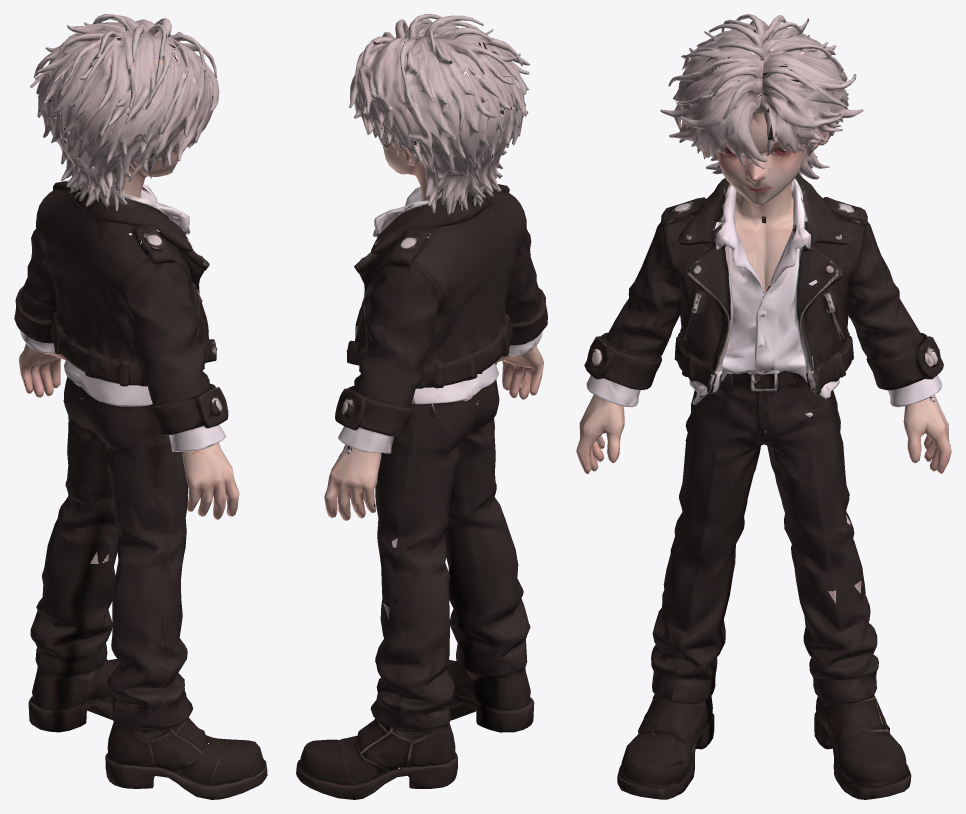
The model's file is far.glb.
3 renders of one model, left to right at view 1: azimuth 30°, elevation 25°; view 2: azimuth 150°, elevation 25°; view 3: azimuth 270°, elevation 25°, orthographic.
Parts seen in each view (by area): view 1: tripo_node_11320632-9dbc-489b-8da7-b8248162fe40; view 2: tripo_node_11320632-9dbc-489b-8da7-b8248162fe40; view 3: tripo_node_11320632-9dbc-489b-8da7-b8248162fe40.
Boxes of the visible parts, x1,y1,x2,y2 form: tripo_node_11320632-9dbc-489b-8da7-b8248162fe40: [14, 14, 267, 799]; tripo_node_11320632-9dbc-489b-8da7-b8248162fe40: [296, 14, 547, 799]; tripo_node_11320632-9dbc-489b-8da7-b8248162fe40: [576, 14, 951, 799].
Bounding box in the file's own units: 0.2315 × 0.9996 × 0.4584.
1 material, 1 textured.
